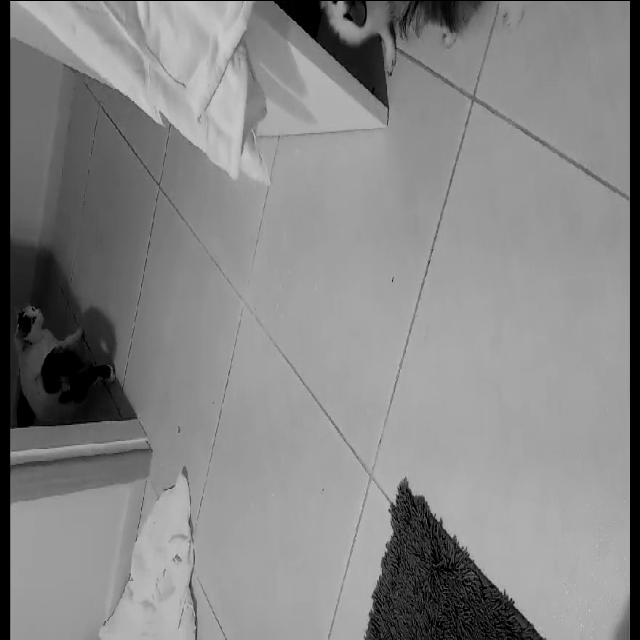Simba: (15, 289, 120, 422)
